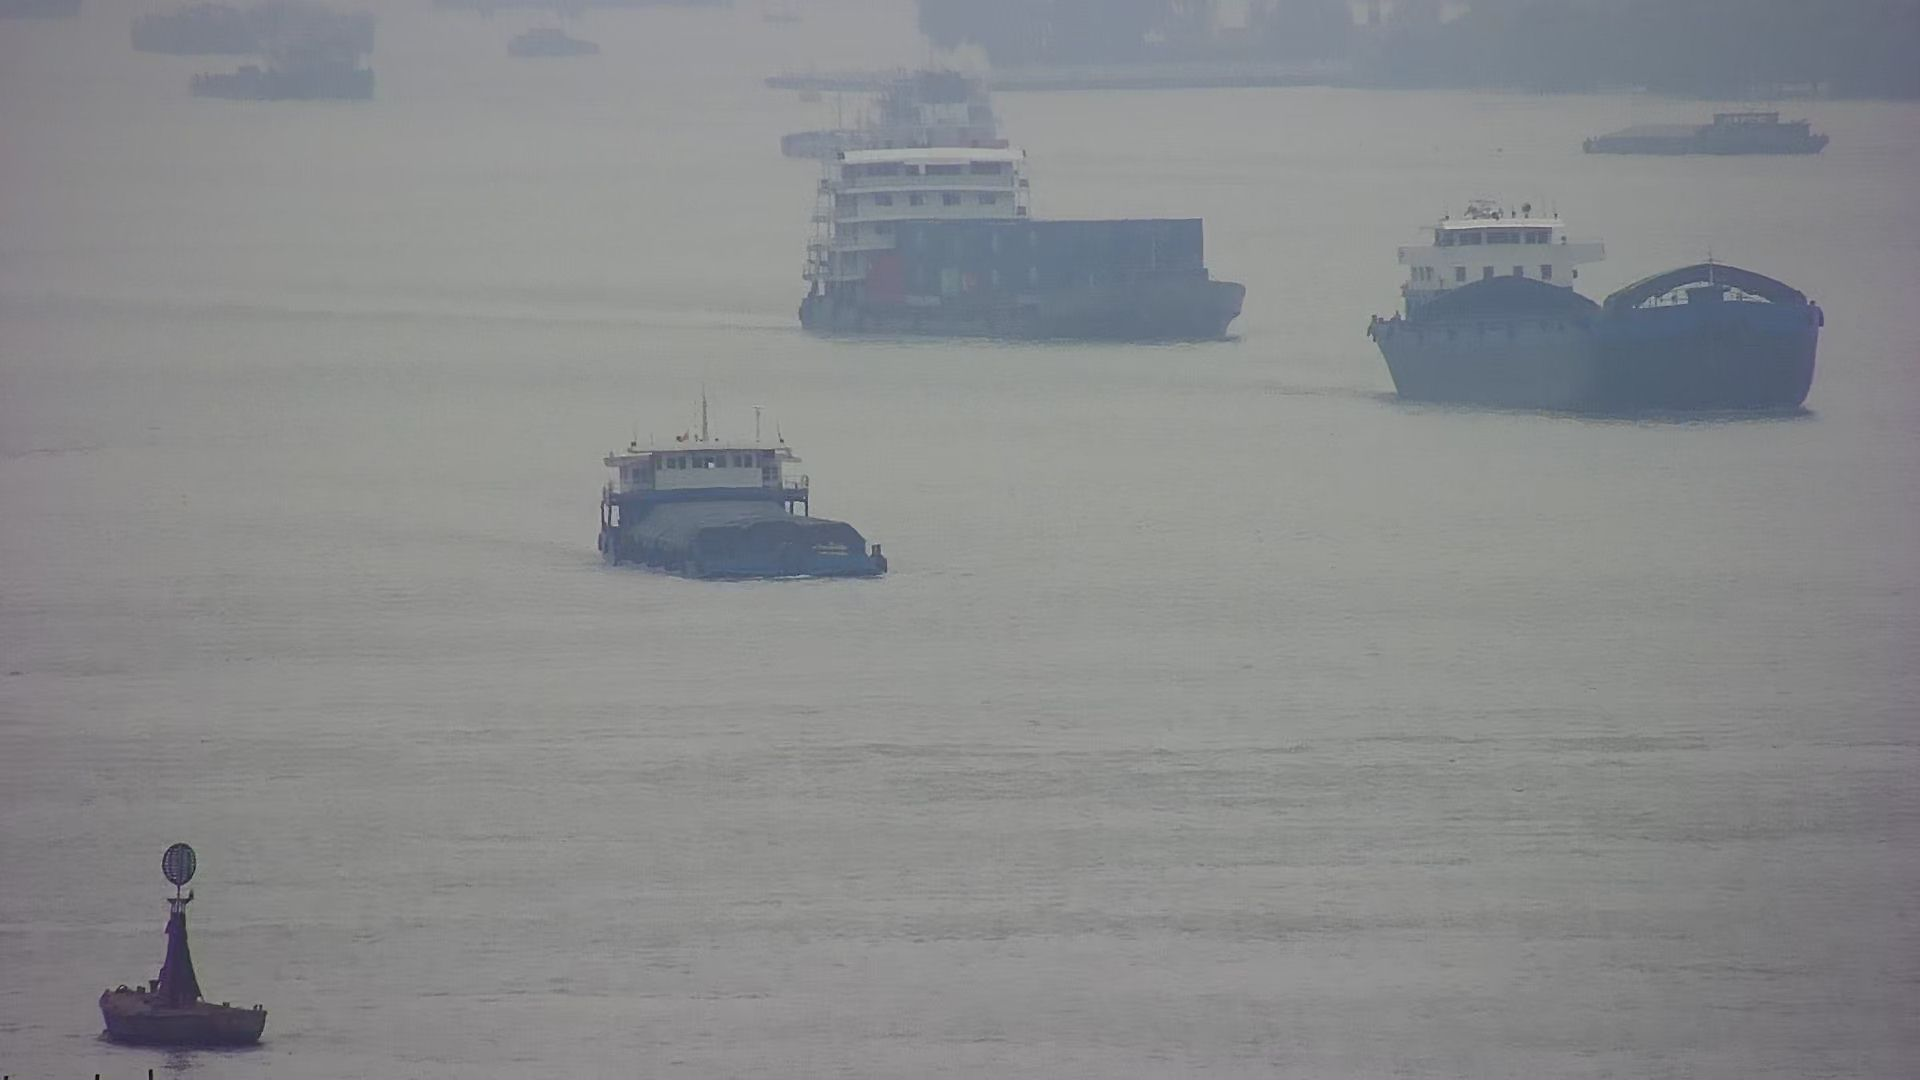boat: (104, 837, 272, 1047)
ship: (1362, 196, 1822, 419), (800, 133, 1249, 342), (597, 411, 887, 583), (781, 65, 1018, 160), (1578, 109, 1841, 156)
